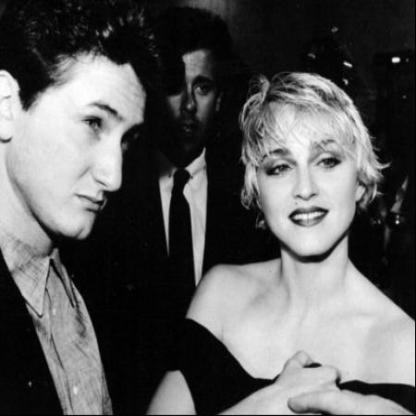face: (18, 1, 155, 249), (257, 78, 359, 258), (156, 28, 221, 157)
